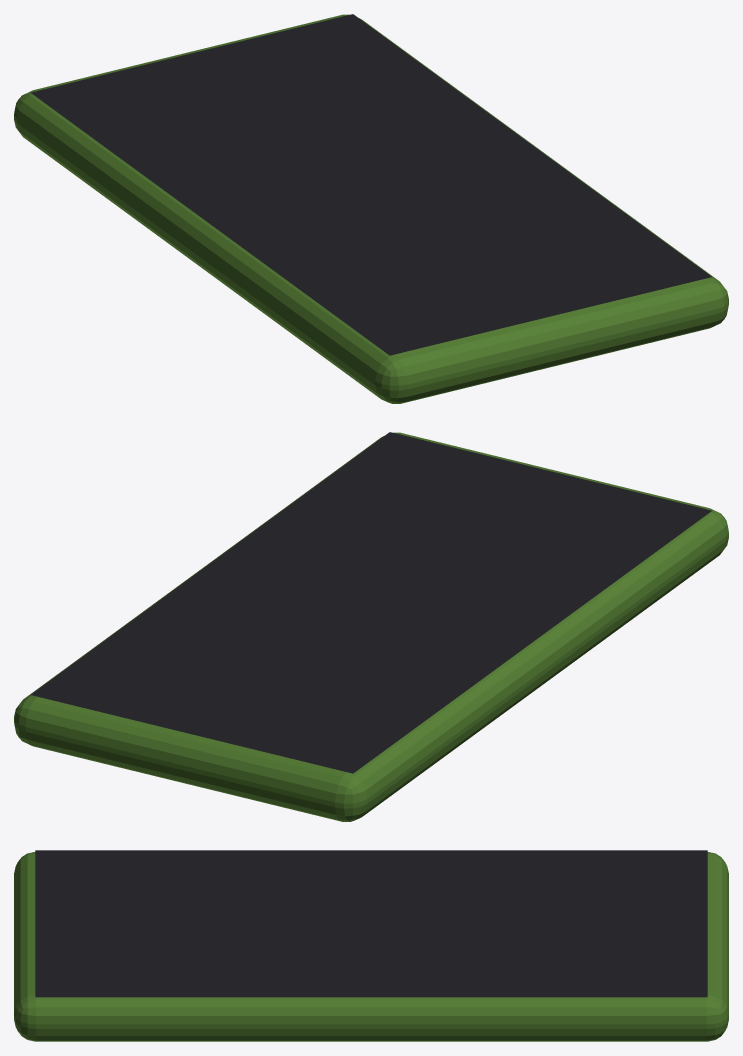
The model's file is vivo-y-model-37-budget-2021.glb.
3 renders of one model, top to bottom at view 1: azimuth 30°, elevation 25°; view 2: azimuth 150°, elevation 25°; view 3: azimuth 270°, elevation 25°, orthographic. The views are drawn at different scales.
Visible parts, largest first — view 1: Phone_Screen, Phone_Body; view 2: Phone_Screen, Phone_Body; view 3: Phone_Screen, Phone_Body.
Boxes of the visible parts, left/top/right/bottom form: Phone_Screen: left=31, top=14, right=711, bottom=355; Phone_Body: left=14, top=14, right=728, bottom=403; Phone_Screen: left=31, top=432, right=711, bottom=773; Phone_Body: left=14, top=432, right=728, bottom=821; Phone_Screen: left=35, top=850, right=707, bottom=997; Phone_Body: left=14, top=852, right=728, bottom=1041.
Size of the model in its own units: 0.075 by 0.0099 by 0.1416.
